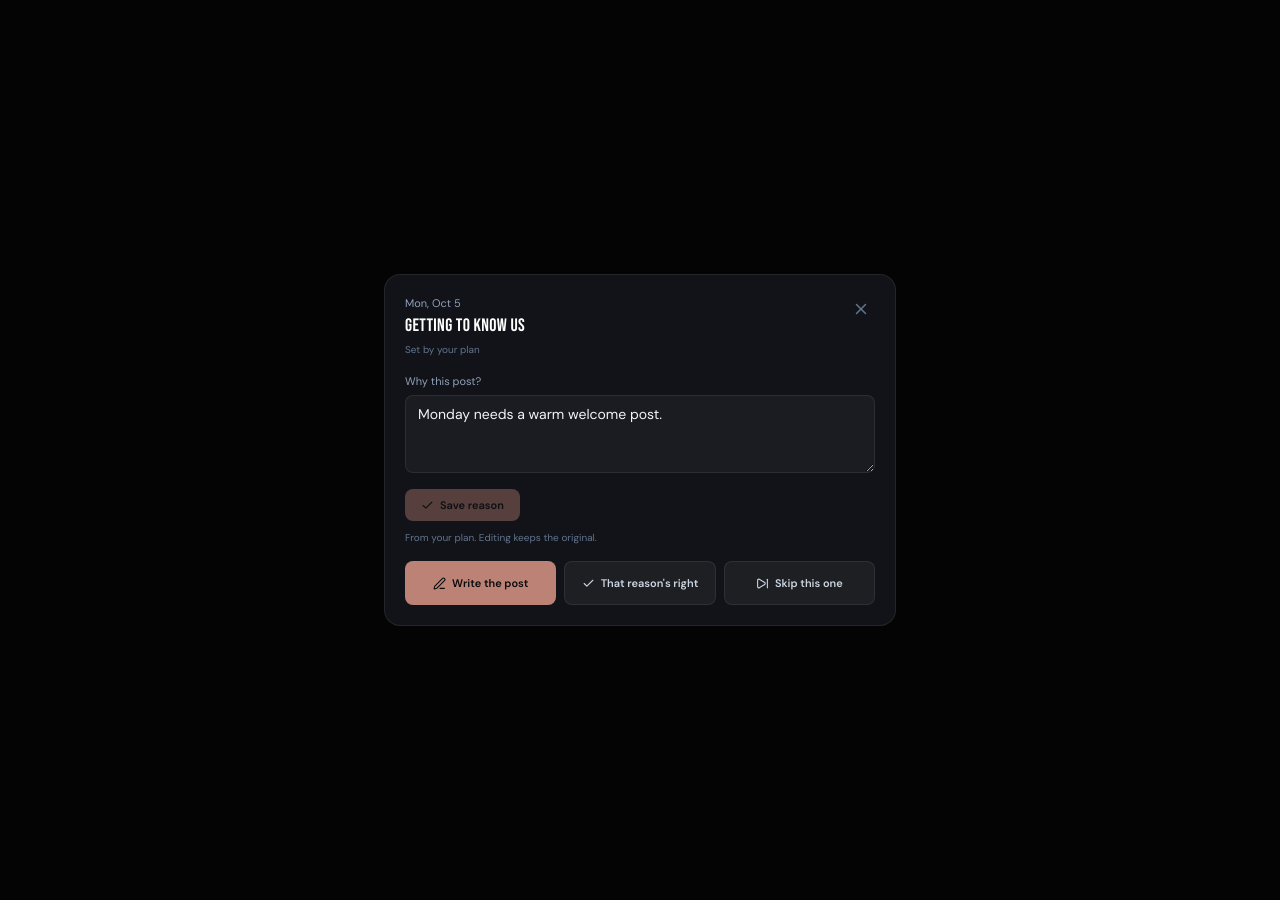
SlotPanel — saving persists and confirms › shows a visible confirmation, and disables save again
This screenshot has width=1280, height=900.
Step 1. Replace the text in the text box labelled "Why this post?" with "Because our Monday regulars bring friends." → x=640, y=434, box 405,395 -> 875,473
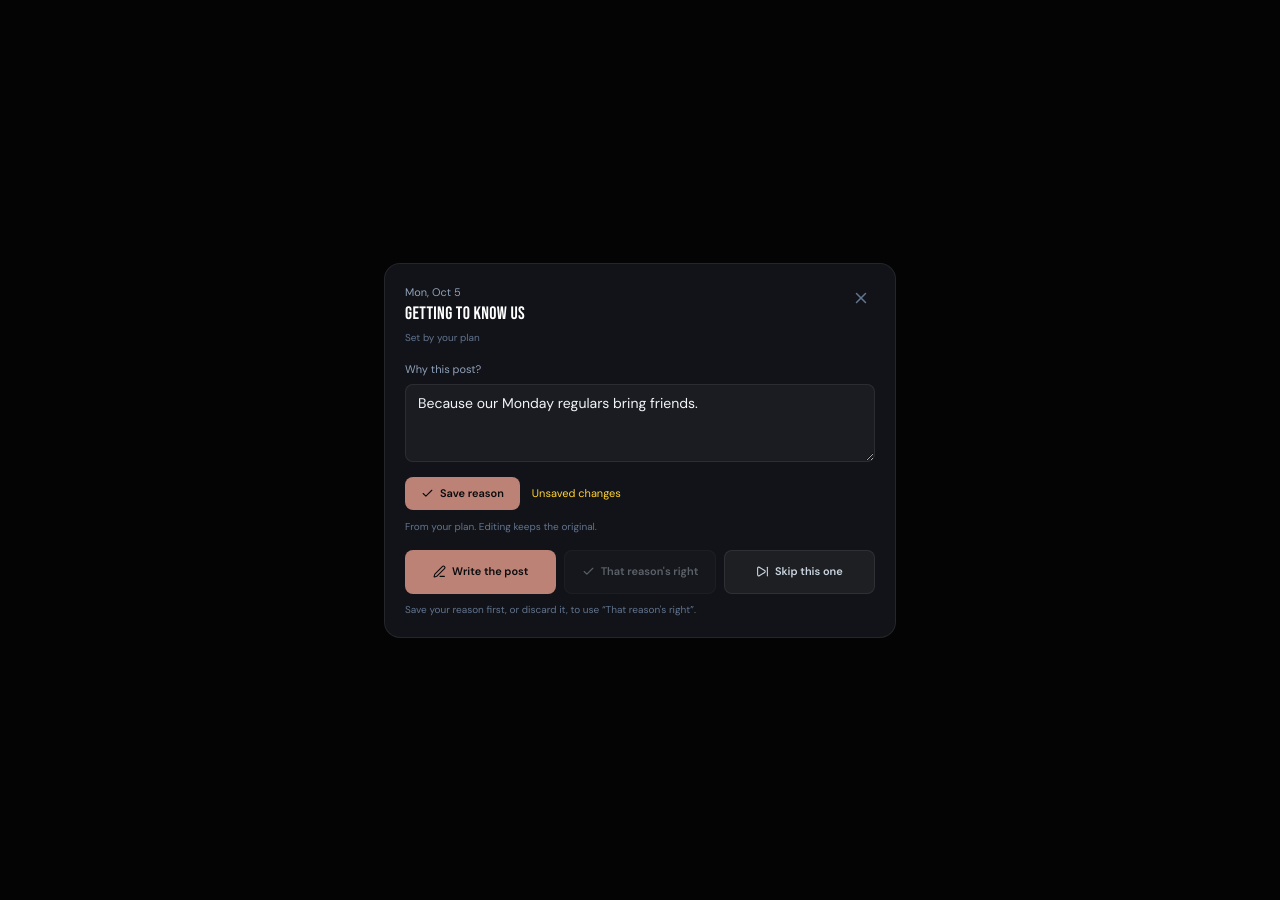
Step 2. Click the button "Save reason" → x=462, y=494, box 405,477 -> 520,510
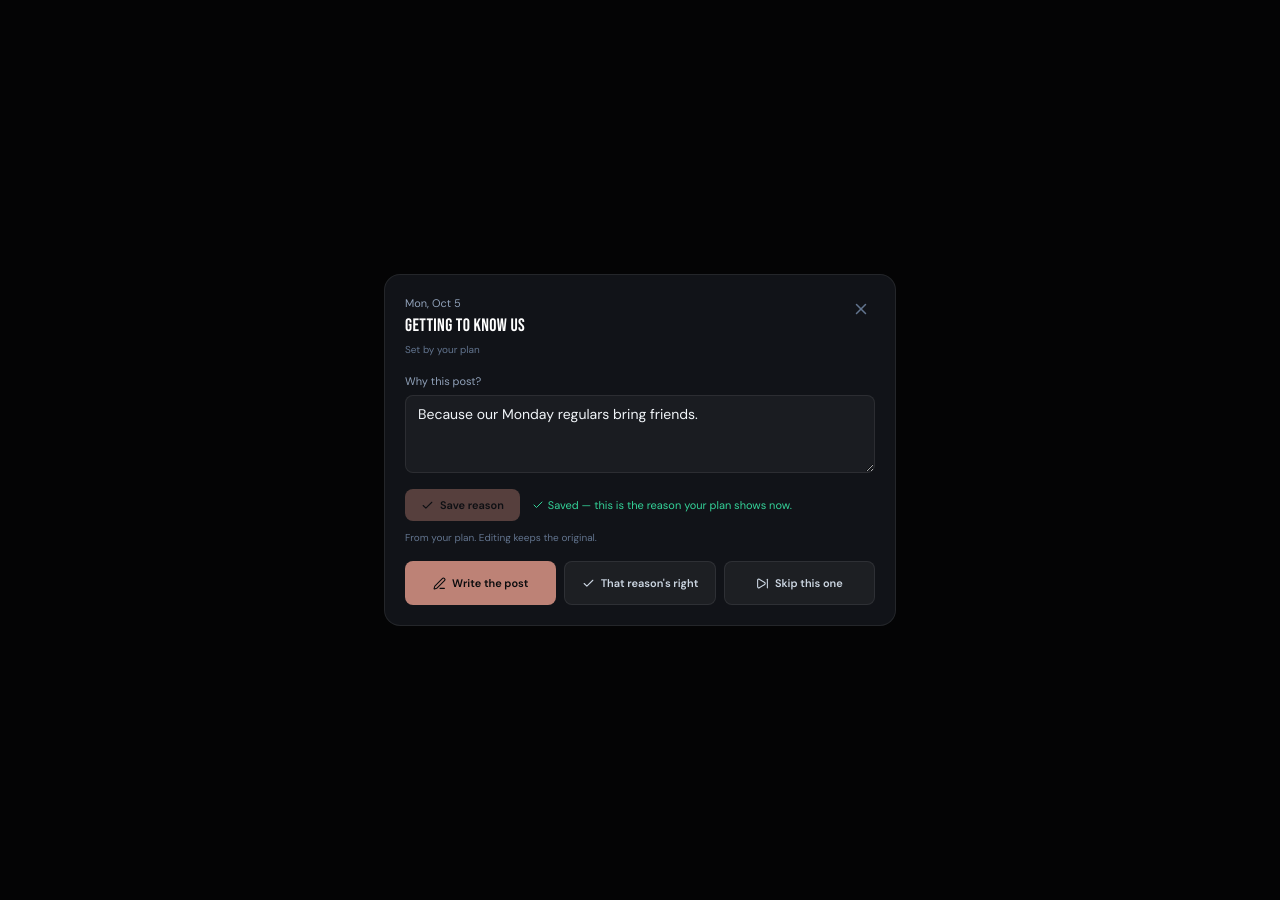
Expected: the text "Saved — this is the reason your plan shows now." is shown, 532,497 -> 792,513
Expected: the button "Save reason" is disabled, 405,489 -> 520,521
